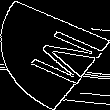M_SE: (9, 22, 101, 88)
